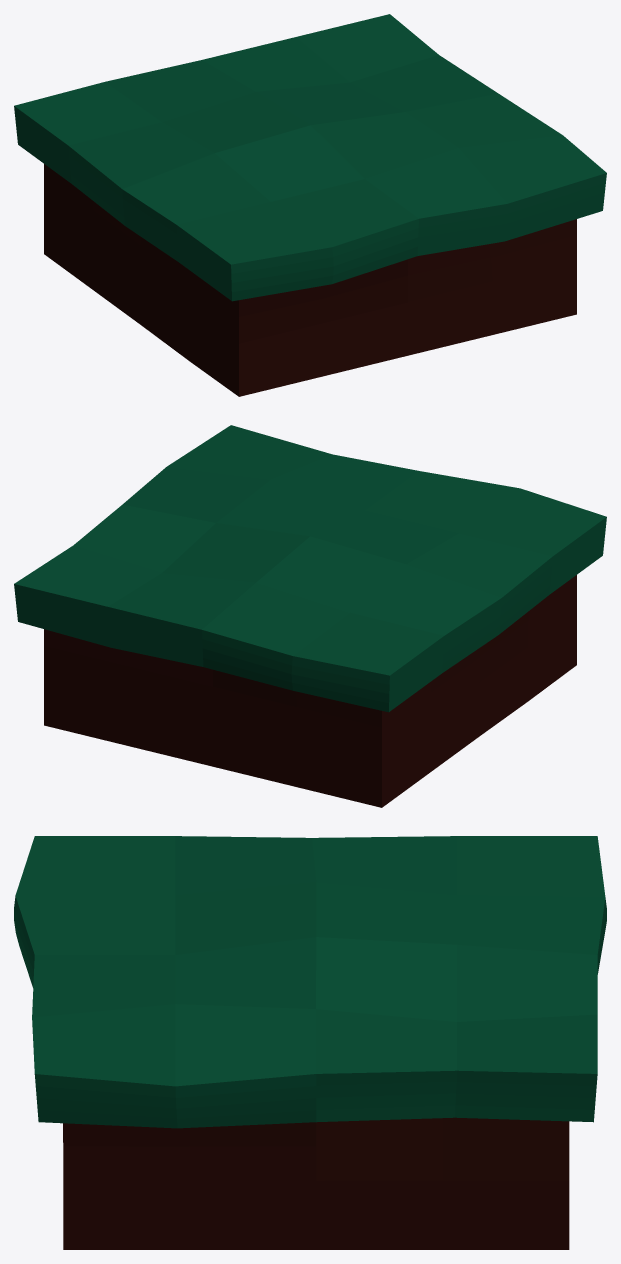
File: ground.fbx
3 views of the same model, one above another, from view 1: azimuth 30°, elevation 25°; view 2: azimuth 150°, elevation 25°; view 3: azimuth 270°, elevation 25° (orthographic). The views are drawn at different scales.
Visible parts, largest first — view 1: ground; view 2: ground; view 3: ground.
Part boxes in pixels (box(x1,y1,x2,y2)): ground: box(14, 14, 606, 396); ground: box(14, 425, 606, 807); ground: box(14, 836, 606, 1249).
Bounding box in the file's own units: 52.65 × 21.62 × 53.73.
